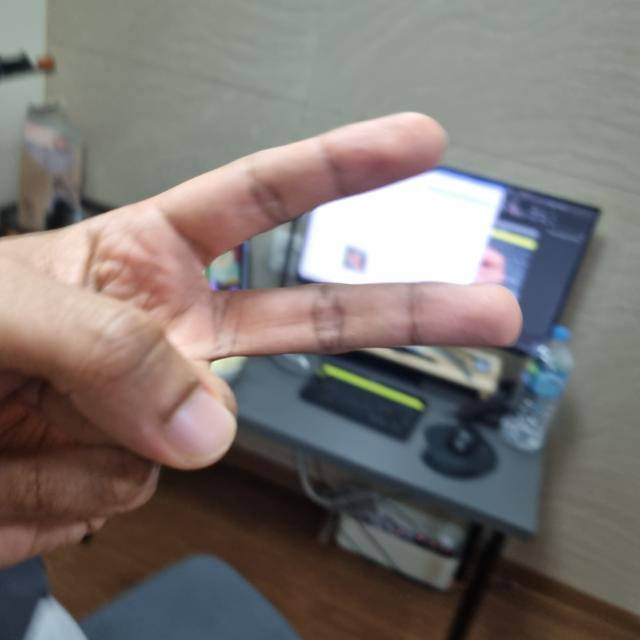Scissors: (1, 121, 517, 578)
